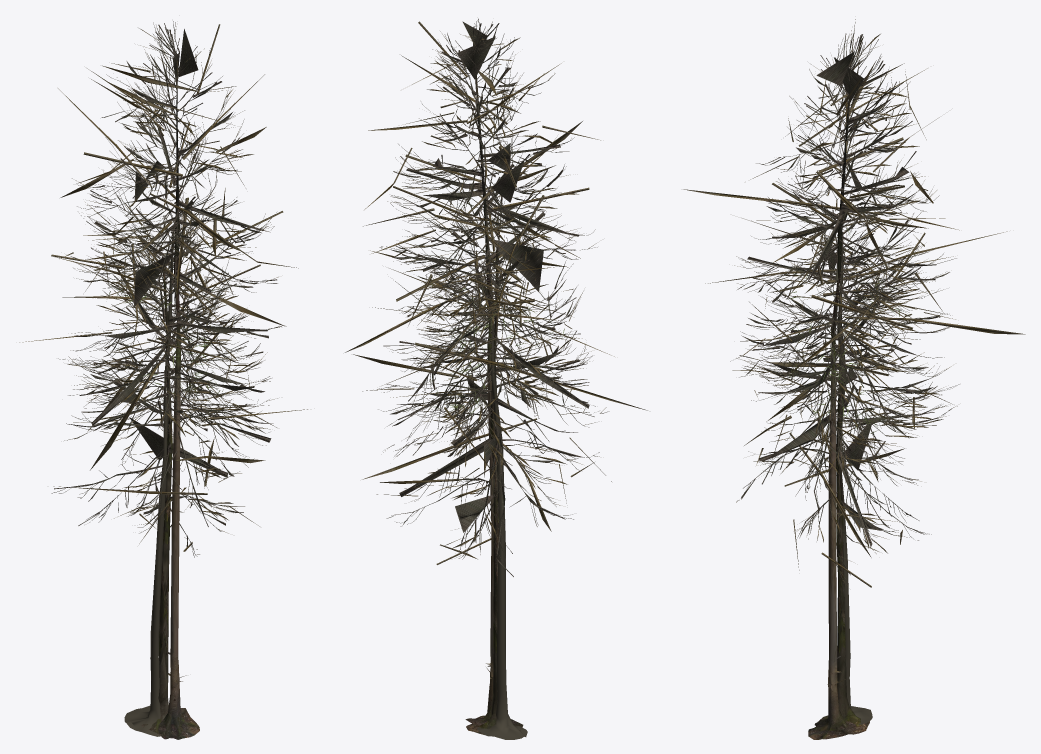
Rendered from fir_tree_01_lod2.glb.
The picture shows the model from 3 angles, left to right: view 1: azimuth 30°, elevation 25°; view 2: azimuth 150°, elevation 25°; view 3: azimuth 270°, elevation 25°; orthographic projection. The views are drawn at different scales.
Parts seen in each view (by area): view 1: fir_tree_01_a_LOD0.001, fir_tree_01_a_LOD0, fir_tree_01_a_LOD0.002, fir_tree_01_c_LOD0, fir_tree_01_b_LOD0.002; view 2: fir_tree_01_a_LOD0.001, fir_tree_01_a_LOD0, fir_tree_01_c_LOD0, fir_tree_01_a_LOD0.002, fir_tree_01_b_LOD0.002; view 3: fir_tree_01_a_LOD0.001, fir_tree_01_a_LOD0, fir_tree_01_a_LOD0.002, fir_tree_01_b_LOD0.002, fir_tree_01_c_LOD0.
Part boxes in pixels (x1,y1,x2,y2): fir_tree_01_a_LOD0.001: [51, 21, 281, 557]; fir_tree_01_a_LOD0: [19, 24, 307, 554]; fir_tree_01_a_LOD0.002: [158, 60, 199, 739]; fir_tree_01_c_LOD0: [124, 228, 174, 736]; fir_tree_01_b_LOD0.002: [141, 256, 180, 735]; fir_tree_01_a_LOD0.001: [377, 18, 609, 576]; fir_tree_01_a_LOD0: [345, 21, 647, 564]; fir_tree_01_c_LOD0: [477, 214, 527, 739]; fir_tree_01_a_LOD0.002: [465, 52, 520, 725]; fir_tree_01_b_LOD0.002: [466, 247, 523, 735]; fir_tree_01_a_LOD0.001: [736, 33, 959, 584]; fir_tree_01_a_LOD0: [683, 19, 1025, 587]; fir_tree_01_a_LOD0.002: [808, 75, 856, 739]; fir_tree_01_b_LOD0.002: [818, 257, 869, 734]; fir_tree_01_c_LOD0: [838, 232, 872, 725].
Bounding box in the file's own units: 7.41 × 18.63 × 8.3.
5 materials, 5 textured.
